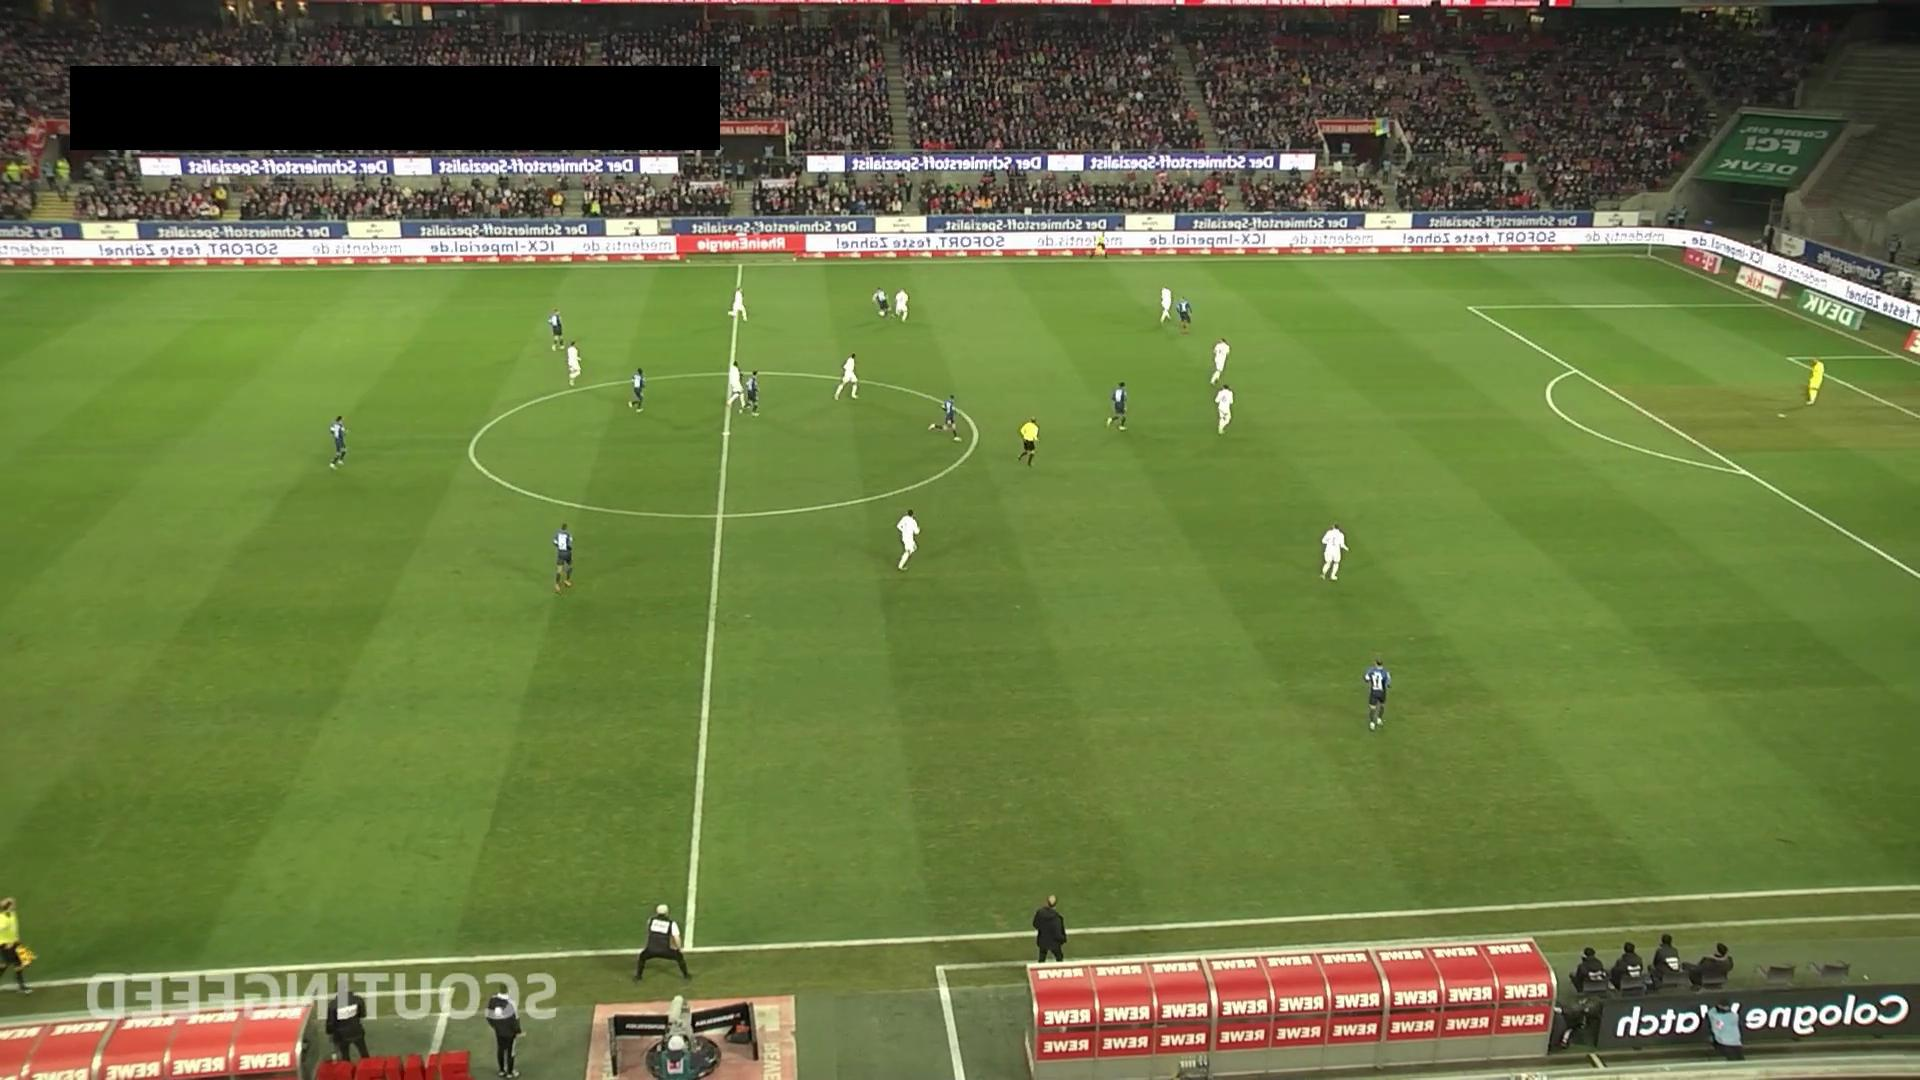ball: (877, 309, 886, 318)
goalkeeper: (1805, 355, 1826, 406)
player: (1363, 654, 1392, 731), (551, 521, 578, 596), (927, 394, 964, 444), (1320, 521, 1349, 582), (896, 508, 921, 571), (833, 352, 859, 400), (1106, 380, 1128, 430), (328, 414, 348, 468), (726, 361, 746, 414), (1210, 337, 1231, 386), (1215, 383, 1234, 434), (726, 285, 749, 323), (872, 286, 895, 322), (566, 339, 582, 388), (744, 370, 760, 415), (629, 367, 645, 412), (548, 307, 564, 351), (1175, 296, 1192, 334), (894, 289, 910, 325), (1159, 286, 1173, 325)
referee: (0, 896, 34, 996), (1015, 416, 1040, 470), (1088, 230, 1109, 261)
